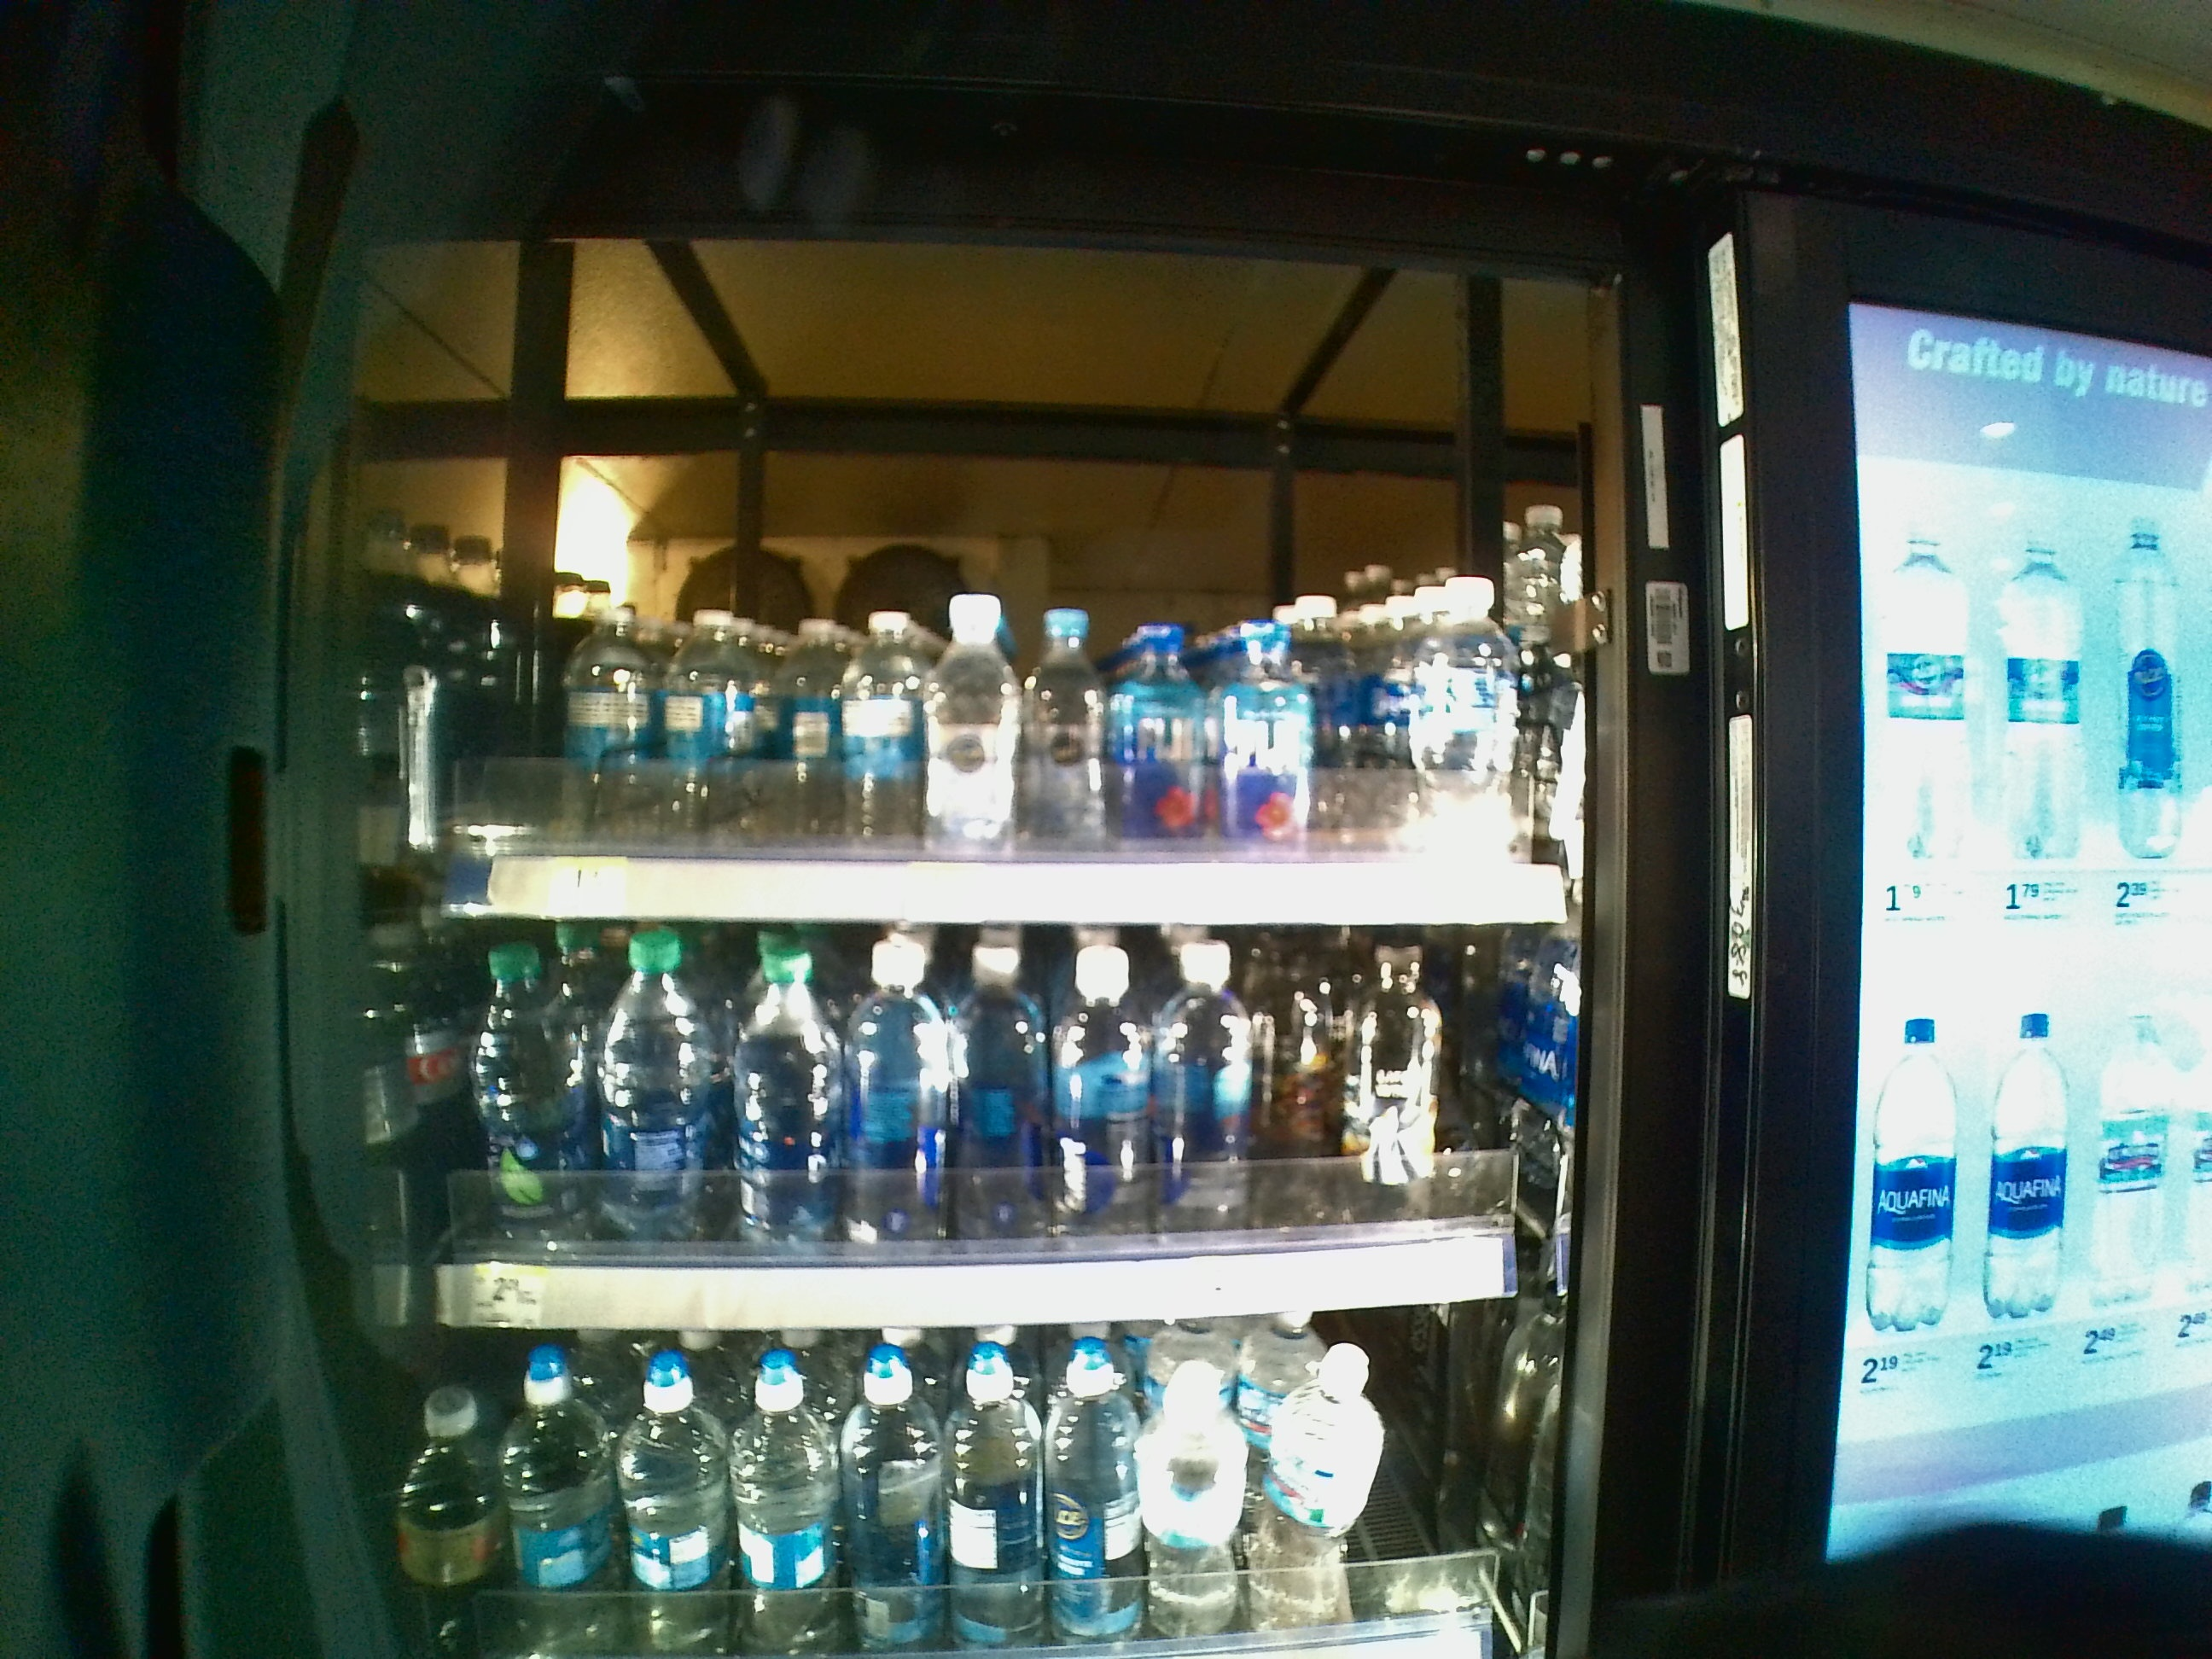shelf: (388, 234, 1594, 924), (388, 929, 1583, 1331)
